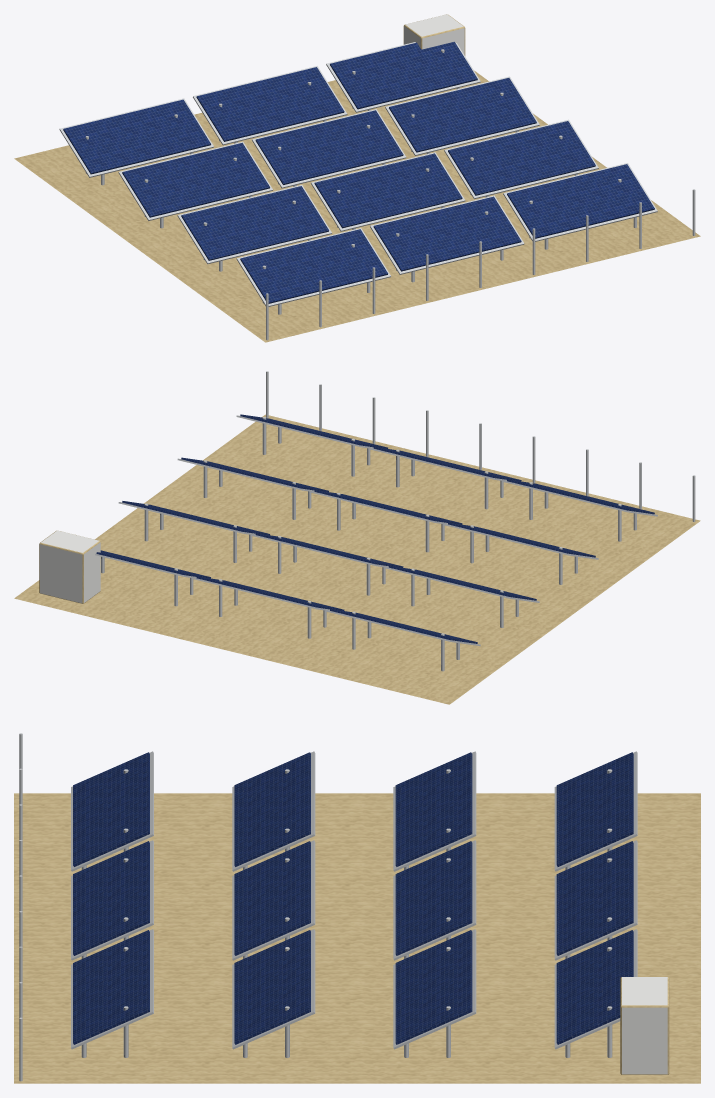
The model's file is solar.gltf.
The picture shows the model from 3 angles, top to bottom: view 1: azimuth 30°, elevation 25°; view 2: azimuth 150°, elevation 25°; view 3: azimuth 270°, elevation 25°; orthographic projection. The views are drawn at different scales.
Parts seen in each view (by area): view 1: solar; view 2: solar; view 3: solar.
Part boxes in pixels (x1,y1,x2,y2): solar: [14, 14, 700, 342]; solar: [14, 371, 700, 704]; solar: [14, 733, 700, 1083].
Size of the model in its own units: 3.92 by 0.44 by 3.92.
Materials: 4 (2 with a texture image).
